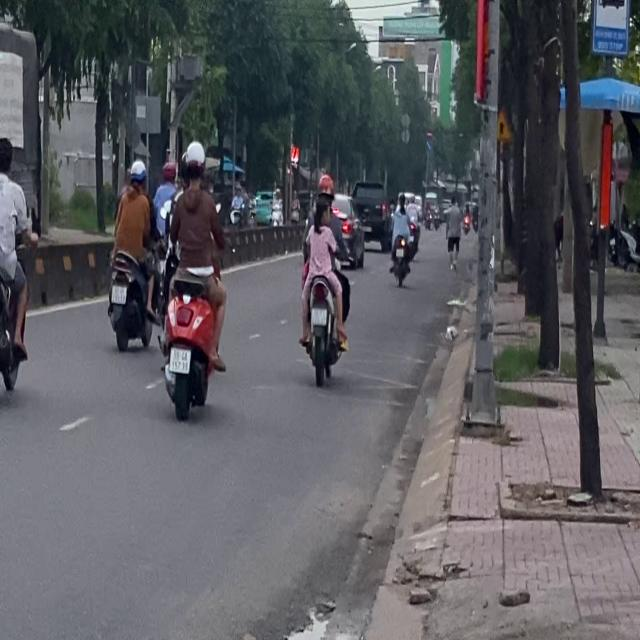helmet: (182, 139, 206, 186), (128, 158, 146, 189), (316, 172, 334, 202)
licenseplate: (158, 138, 228, 420), (296, 172, 350, 382), (106, 157, 155, 350), (0, 133, 31, 405)
motorcyclist: (0, 136, 13, 176), (312, 198, 328, 227)
nohelmet: (169, 348, 190, 372), (111, 284, 126, 303), (311, 308, 326, 324)
